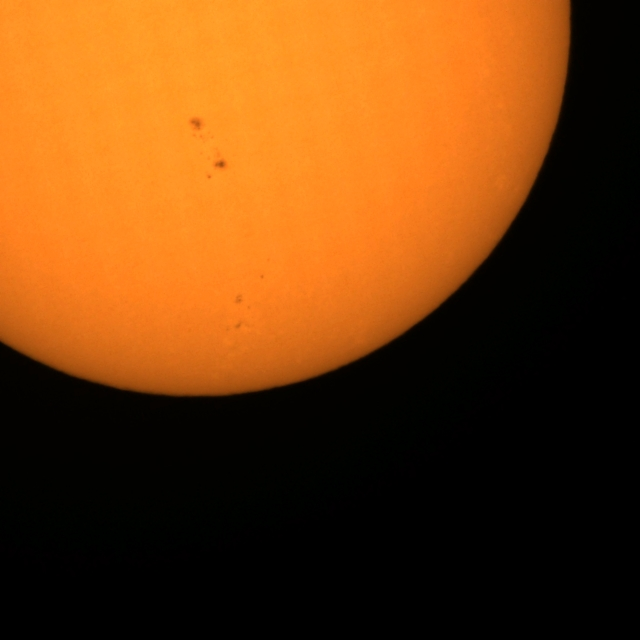sunspot: (187, 116, 216, 142), (206, 157, 228, 179), (233, 293, 251, 311), (225, 320, 244, 333), (212, 157, 228, 171), (233, 293, 244, 306), (259, 273, 265, 281), (206, 174, 212, 180)
